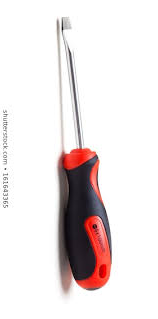Screwdriver: (48, 17, 127, 308)
